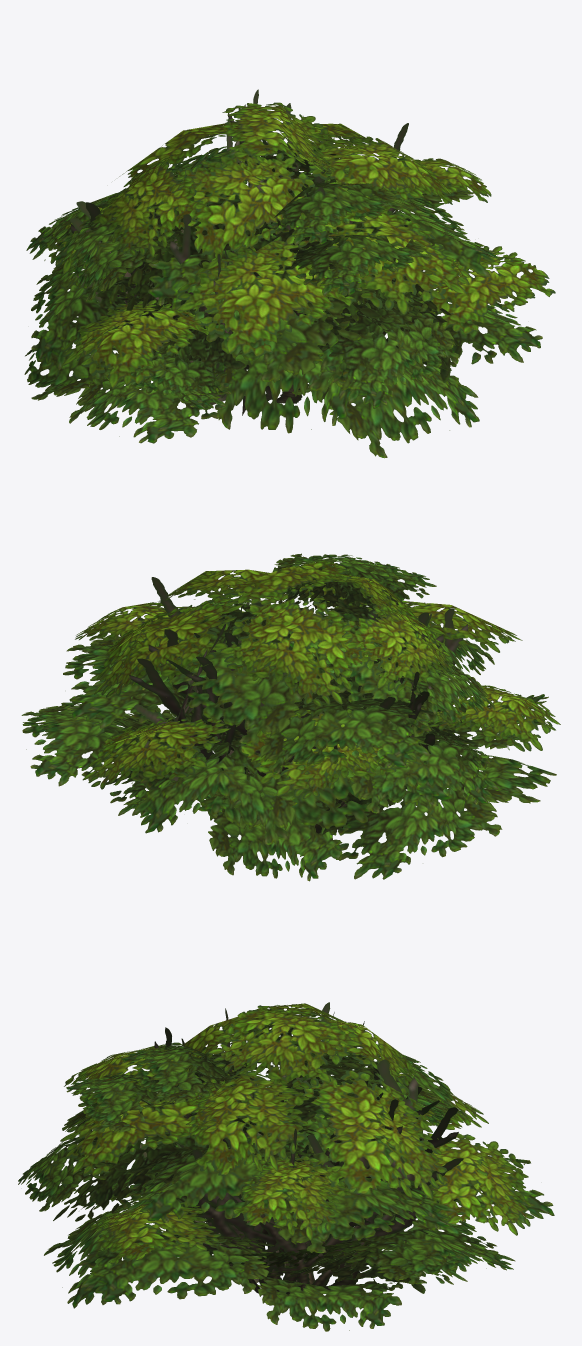
Rendered from zhiwu_07.fbx.
3 renders of one model, top to bottom at view 1: azimuth 30°, elevation 25°; view 2: azimuth 150°, elevation 25°; view 3: azimuth 270°, elevation 25°, orthographic. The views are drawn at different scales.
Parts seen in each view (by area): view 1: zhiwu_07; view 2: zhiwu_07; view 3: zhiwu_07.
Part boxes in pixels (<box>): zhiwu_07: <box>24,89,555,458</box>; zhiwu_07: <box>21,553,560,881</box>; zhiwu_07: <box>18,1002,554,1331</box>.
Size of the model in its own units: 835 by 500 by 839.
